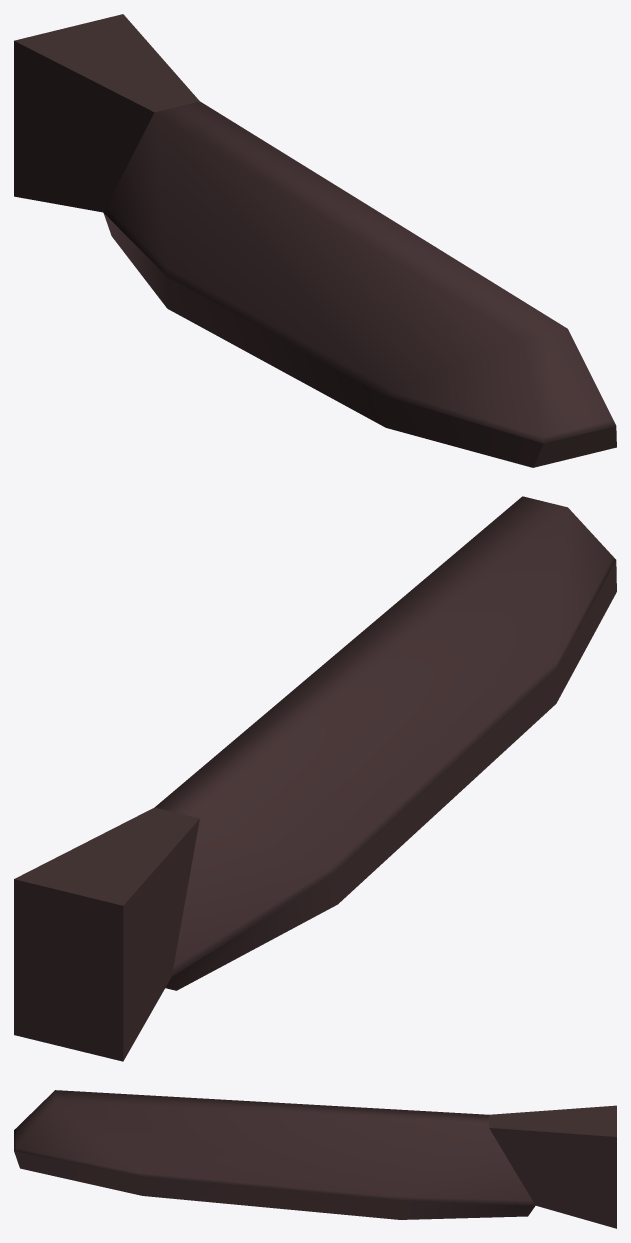
Rendered from SW_PROP_PlatformLamp.fbx.
3 views of the same model, one above another, from view 1: azimuth 30°, elevation 25°; view 2: azimuth 150°, elevation 25°; view 3: azimuth 270°, elevation 25° (orthographic). The views are drawn at different scales.
Visible parts, largest first — view 1: SW_PROP_PlatformLamp; view 2: SW_PROP_PlatformLamp; view 3: SW_PROP_PlatformLamp.
Boxes of the visible parts, x1,y1,x2,y2 form: SW_PROP_PlatformLamp: (14,14,616,467); SW_PROP_PlatformLamp: (14,496,616,1061); SW_PROP_PlatformLamp: (14,1090,616,1228).
Bounding box in the file's own units: 0.1986 × 0.22 × 1.03.
